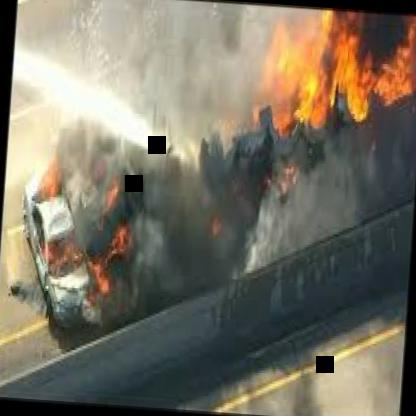fire: (16, 0, 416, 326)
